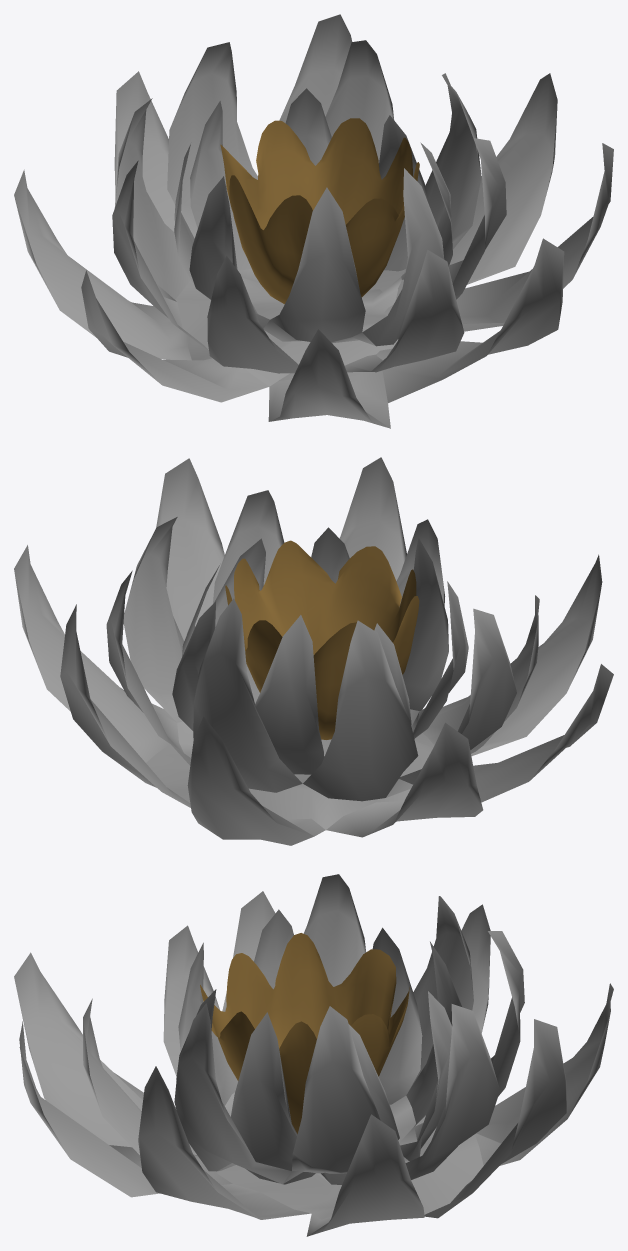
The model's file is LilyFlower_01_Plane.fbx.
The picture shows the model from 3 angles, top to bottom: view 1: azimuth 30°, elevation 25°; view 2: azimuth 150°, elevation 25°; view 3: azimuth 270°, elevation 25°; orthographic projection.
Visible parts, largest first — view 1: LilyFlower_01_plane; view 2: LilyFlower_01_plane; view 3: LilyFlower_01_plane.
Boxes of the visible parts, bbox=[...] form: LilyFlower_01_plane: bbox=[14, 14, 613, 428]; LilyFlower_01_plane: bbox=[14, 457, 613, 845]; LilyFlower_01_plane: bbox=[14, 874, 613, 1236].
Size of the model in its own units: 15.87 by 7.06 by 15.64.
